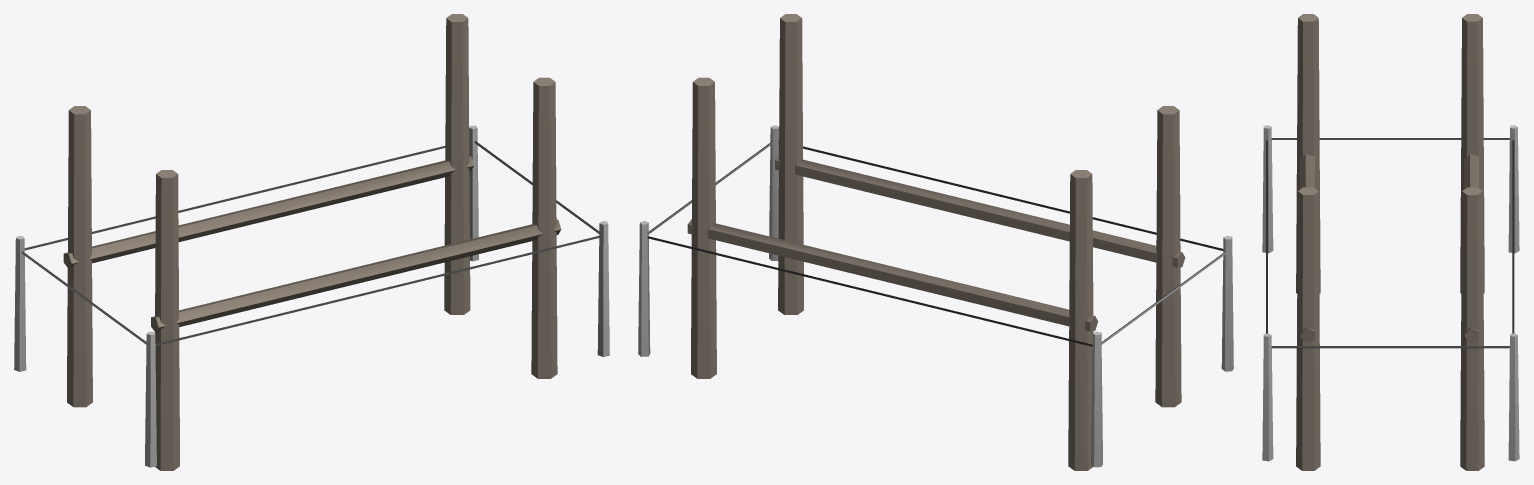
The model's file is banco_frame.glb.
The picture shows the model from 3 angles, left to right: view 1: azimuth 30°, elevation 25°; view 2: azimuth 150°, elevation 25°; view 3: azimuth 270°, elevation 25°; orthographic projection. The views are drawn at different scales.
Visible parts, largest first — view 1: banco_frame; view 2: banco_frame; view 3: banco_frame.
Boxes of the visible parts, bbox=[...] form: banco_frame: bbox=[14, 14, 609, 470]; banco_frame: bbox=[638, 14, 1233, 470]; banco_frame: bbox=[1262, 14, 1519, 470].
Size of the model in its own units: 1.84 by 1.11 by 0.9398.
